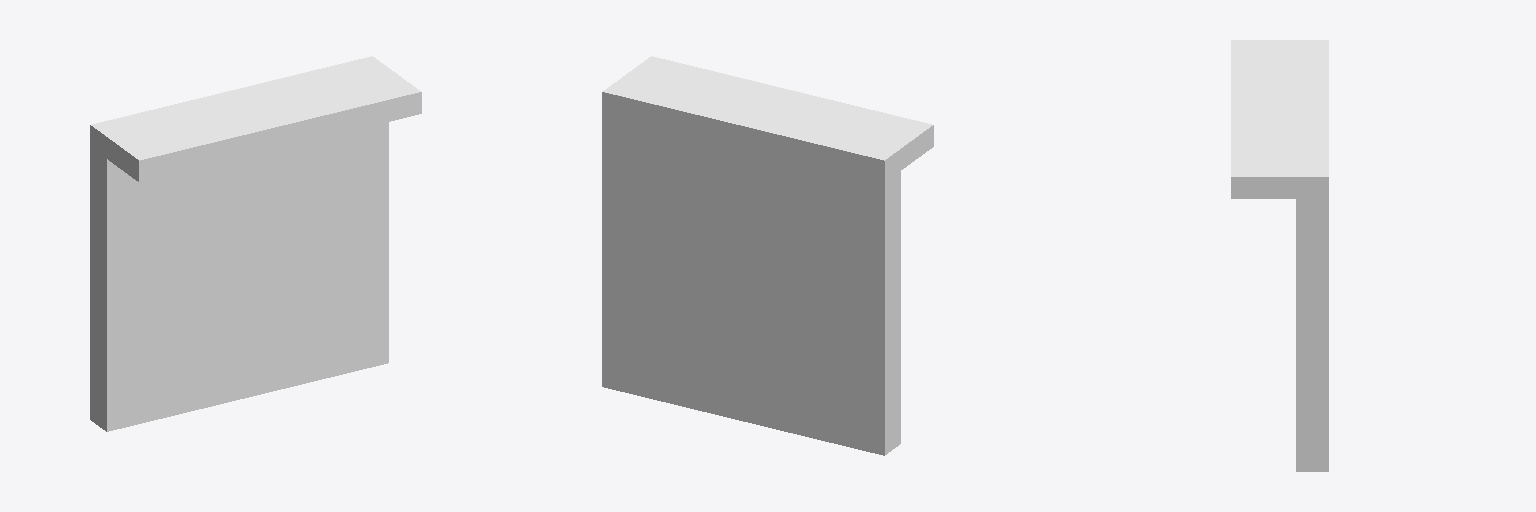
File: entrance4-0-lod3.obj
3 renders of one model, left to right at view 1: azimuth 30°, elevation 25°; view 2: azimuth 150°, elevation 25°; view 3: azimuth 270°, elevation 25°, orthographic.
Parts seen in each view (by area): view 1: lod3; view 2: lod3; view 3: lod3.
Boxes of the visible parts, <box> form: lod3: <box>90,56,421,431</box>; lod3: <box>602,56,933,455</box>; lod3: <box>1231,40,1328,471</box>.
Size of the model in its own units: 16 by 16 by 4.8.